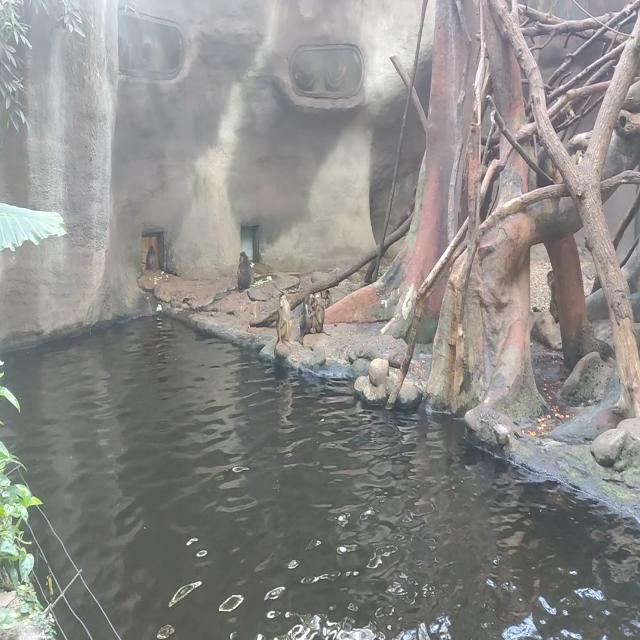monkey: (274, 292, 293, 354), (310, 300, 331, 336), (237, 251, 251, 293), (300, 304, 312, 344), (145, 245, 156, 270), (320, 290, 330, 309)
